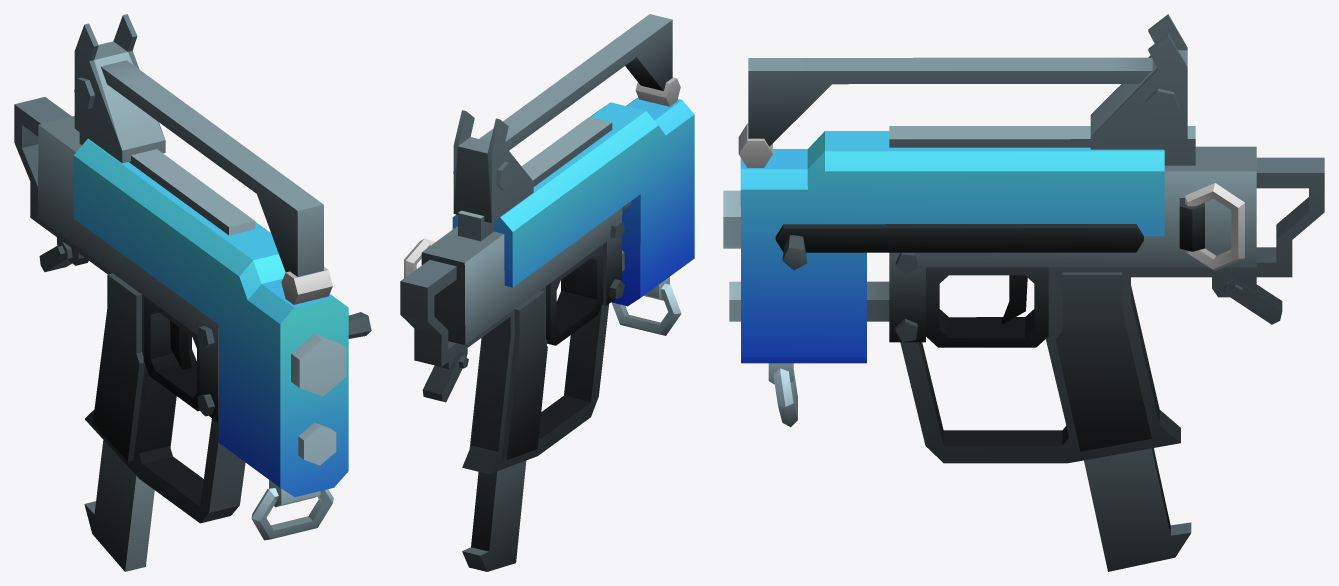
File: Level2Gun.fbx
3 renders of one model, left to right at view 1: azimuth 30°, elevation 25°; view 2: azimuth 150°, elevation 25°; view 3: azimuth 270°, elevation 25°, orthographic. The views are drawn at different scales.
Parts seen in each view (by area): view 1: Weapons_017__2_; view 2: Weapons_017__2_; view 3: Weapons_017__2_.
Part boxes in pixels (x1,y1,x2,y2): Weapons_017__2_: (14,14,371,571); Weapons_017__2_: (400,14,694,571); Weapons_017__2_: (723,14,1324,571).
Bounding box in the file's own units: 15.52 × 64.48 × 64.87.
Materials: 1 (1 with a texture image).
